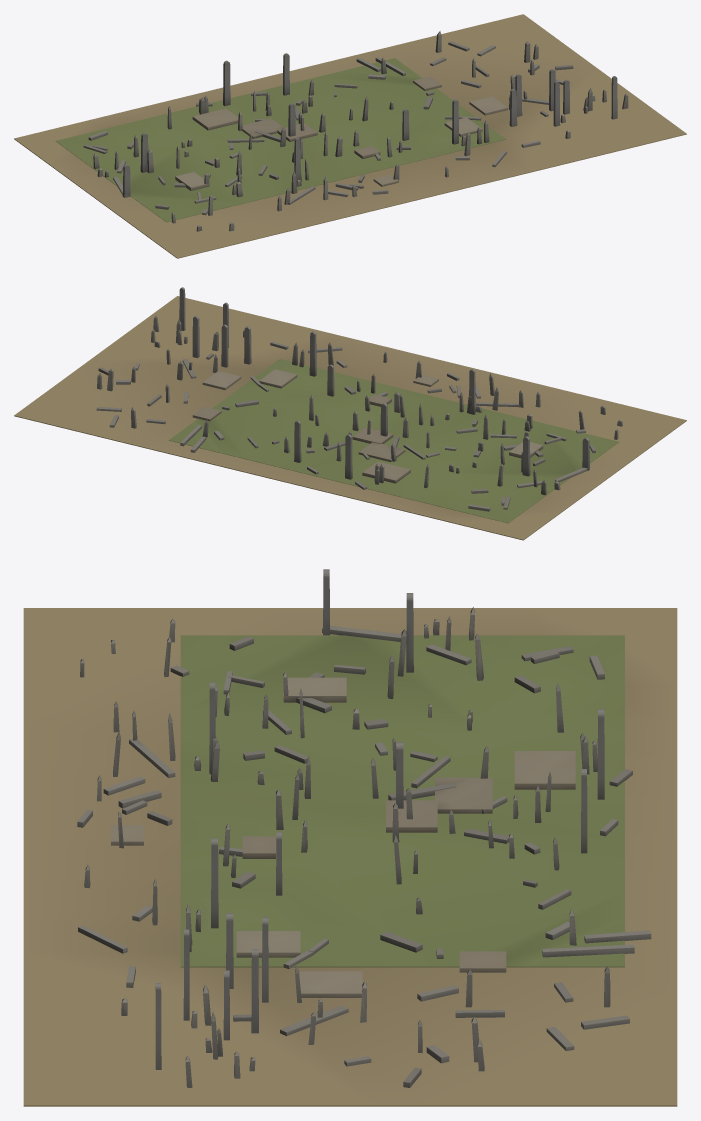
The model's file is gudit-stelae.glb.
3 views of the same model, one above another, from view 1: azimuth 30°, elevation 25°; view 2: azimuth 150°, elevation 25°; view 3: azimuth 270°, elevation 25° (orthographic). The views are drawn at different scales.
Parts seen in each view (by area): view 1: p0_ground, p1_stelae; view 2: p0_ground, p1_stelae; view 3: p0_ground, p1_stelae.
Boxes of the visible parts, box(x1,y1,x2,y2) form: p0_ground: box(14, 14, 686, 258); p1_stelae: box(83, 31, 628, 231); p0_ground: box(14, 296, 686, 540); p1_stelae: box(96, 287, 622, 511); p0_ground: box(23, 608, 677, 1106); p1_stelae: box(77, 569, 651, 1087).
Bounding box in the file's own units: 90 × 7.6 × 50.
